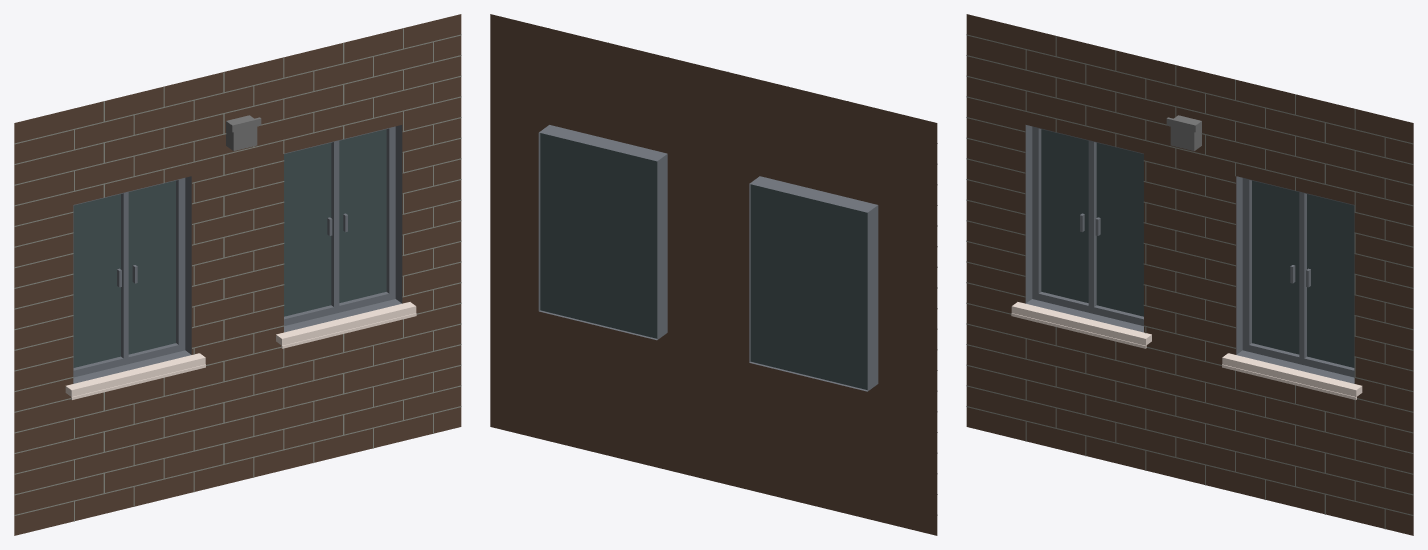
The model's file is mid-w3_close.fbx.
The picture shows the model from 3 angles, left to right: view 1: azimuth 30°, elevation 25°; view 2: azimuth 150°, elevation 25°; view 3: azimuth 330°, elevation 25°; orthographic projection.
Parts seen in each view (by area): view 1: a2001/800/mid-w3_close; view 2: a2001/800/mid-w3_close; view 3: a2001/800/mid-w3_close.
Part boxes in pixels (bbox=[...]): a2001/800/mid-w3_close: bbox=[14, 14, 461, 535]; a2001/800/mid-w3_close: bbox=[490, 14, 937, 535]; a2001/800/mid-w3_close: bbox=[966, 14, 1413, 535].
Size of the model in its own units: 3.4 by 3 by 0.26.
